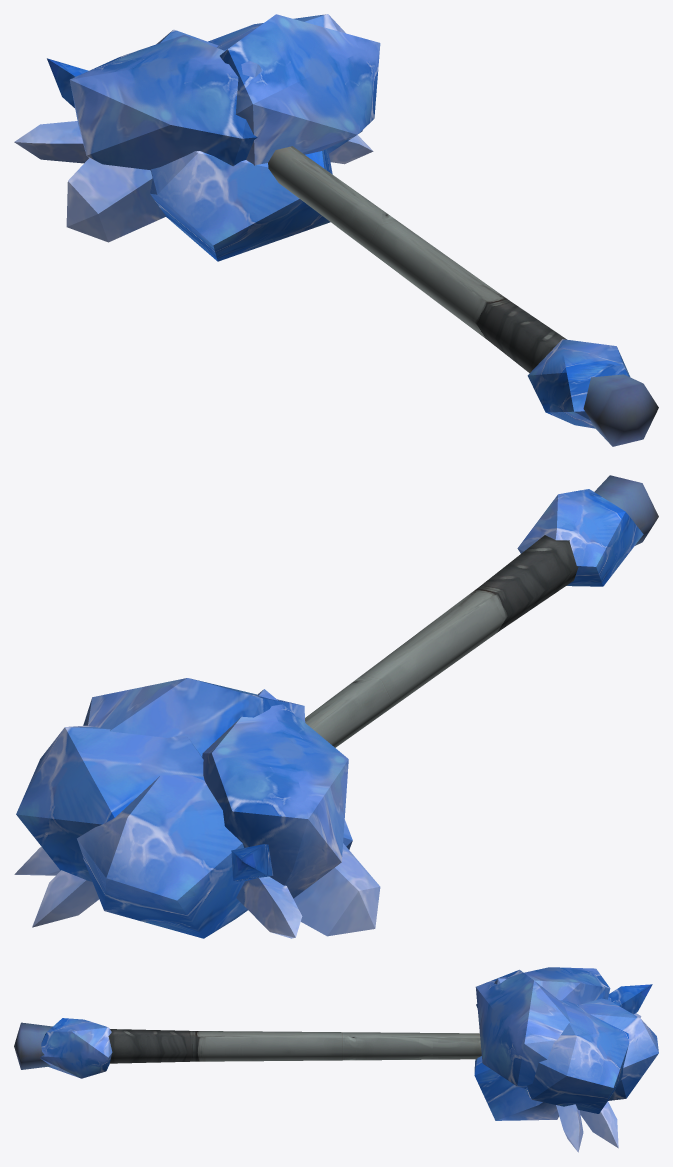
File: Crys_Mace.fbx
3 views of the same model, one above another, from view 1: azimuth 30°, elevation 25°; view 2: azimuth 150°, elevation 25°; view 3: azimuth 270°, elevation 25° (orthographic). The views are drawn at different scales.
Parts seen in each view (by area): view 1: Cry_mace_el3, Cry_mace_el1, Cry_mace_el2; view 2: Cry_mace_el3, Cry_mace_el1, Cry_mace_el2; view 3: Cry_mace_el3, Cry_mace_el1, Cry_mace_el2.
Boxes of the visible parts, <box> form: Cry_mace_el3: <box>14,14,380,261</box>; Cry_mace_el1: <box>268,146,658,446</box>; Cry_mace_el2: <box>527,339,630,428</box>; Cry_mace_el3: <box>14,678,380,938</box>; Cry_mace_el1: <box>305,475,658,747</box>; Cry_mace_el2: <box>517,489,643,586</box>; Cry_mace_el3: <box>474,967,658,1152</box>; Cry_mace_el1: <box>14,1022,481,1069</box>; Cry_mace_el2: <box>40,1018,112,1078</box>.
Bounding box in the file's own units: 0.5172 × 0.3274 × 1.33.
